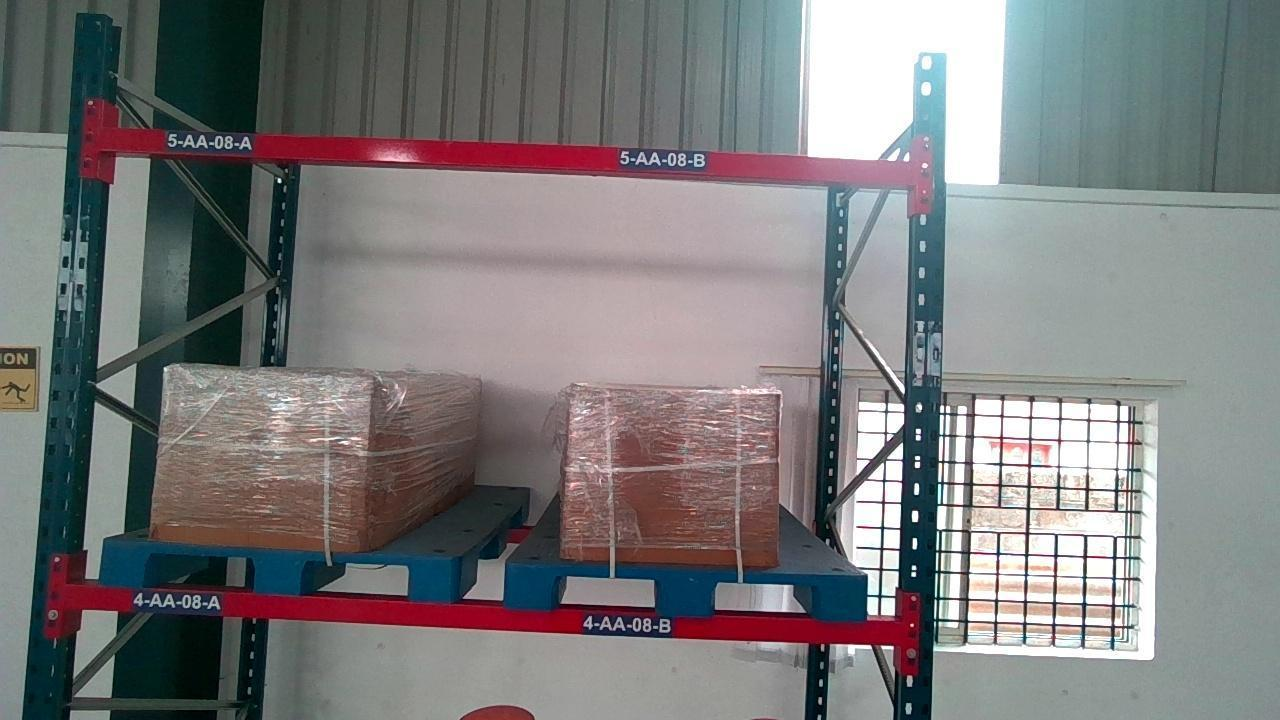h_rack: (58, 583, 909, 650), (96, 124, 922, 191)
small_pallet: (506, 566, 868, 615), (100, 546, 460, 593)
